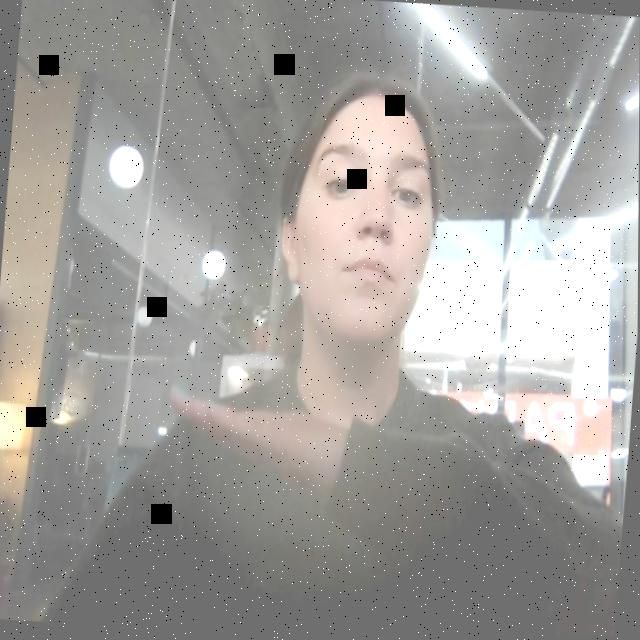Paper: (155, 375, 363, 497)
